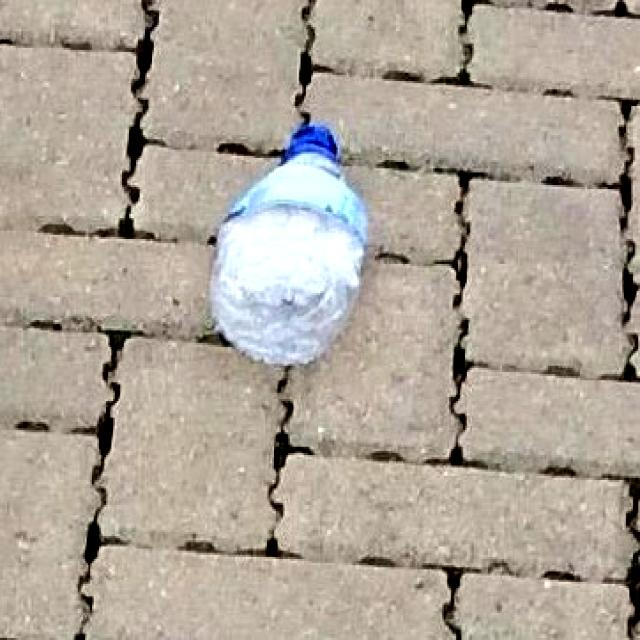Plastic: (212, 118, 372, 368)
